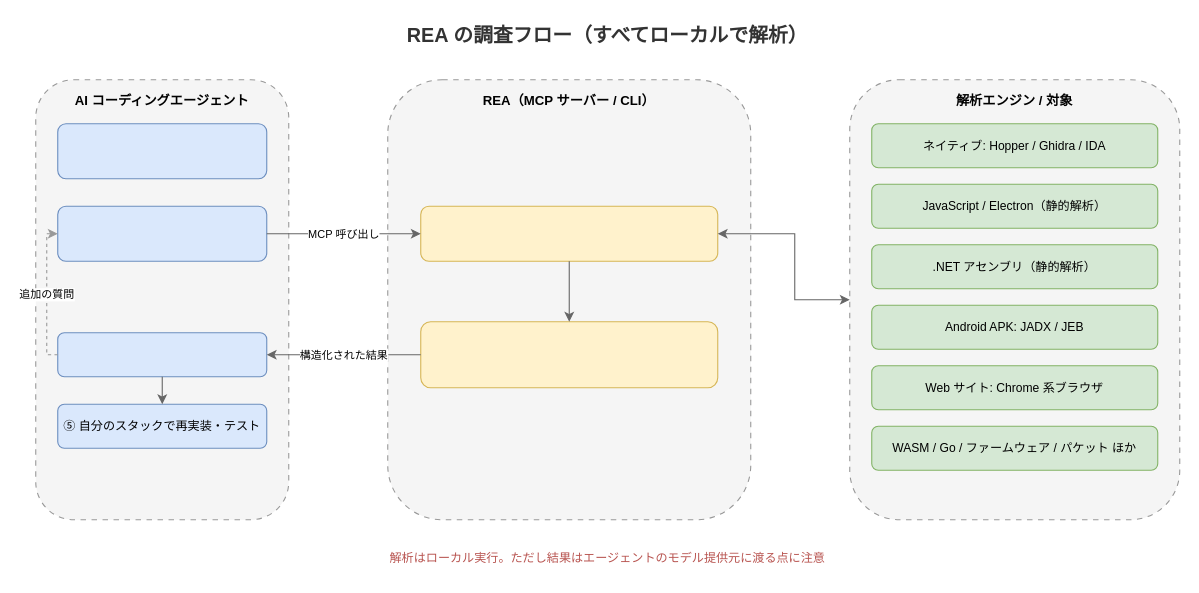
This 1199x593 diagram has some shape labels left out. Here are the shapes that lost their labels. From the top down, the centre of each, then its label:
point (162, 151): Claude Code / Codex / Cursor Gemini CLI / Grok Build など
point (162, 233): ① 質問 「この機能はどう動いている？」
point (569, 233): ② 対象を検査し、関連コードを辿る
point (162, 354): ④ 根拠つきで説明
point (569, 354): ③ Evidence を返す コード・参照・SHA-256・不明点（unknowns）
